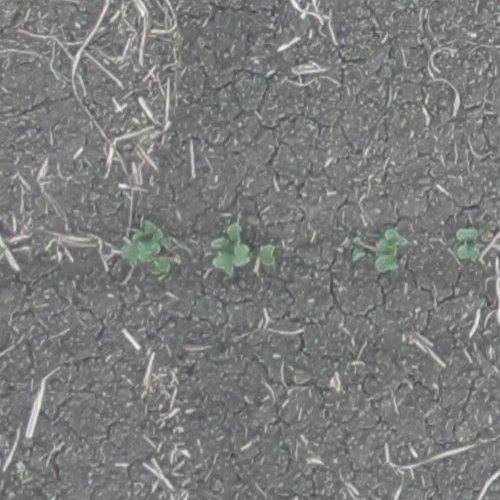isolated: (121, 220, 171, 272), (212, 224, 250, 276), (376, 230, 406, 270), (456, 227, 480, 259), (343, 236, 366, 261), (260, 243, 277, 267), (0, 236, 6, 266)
